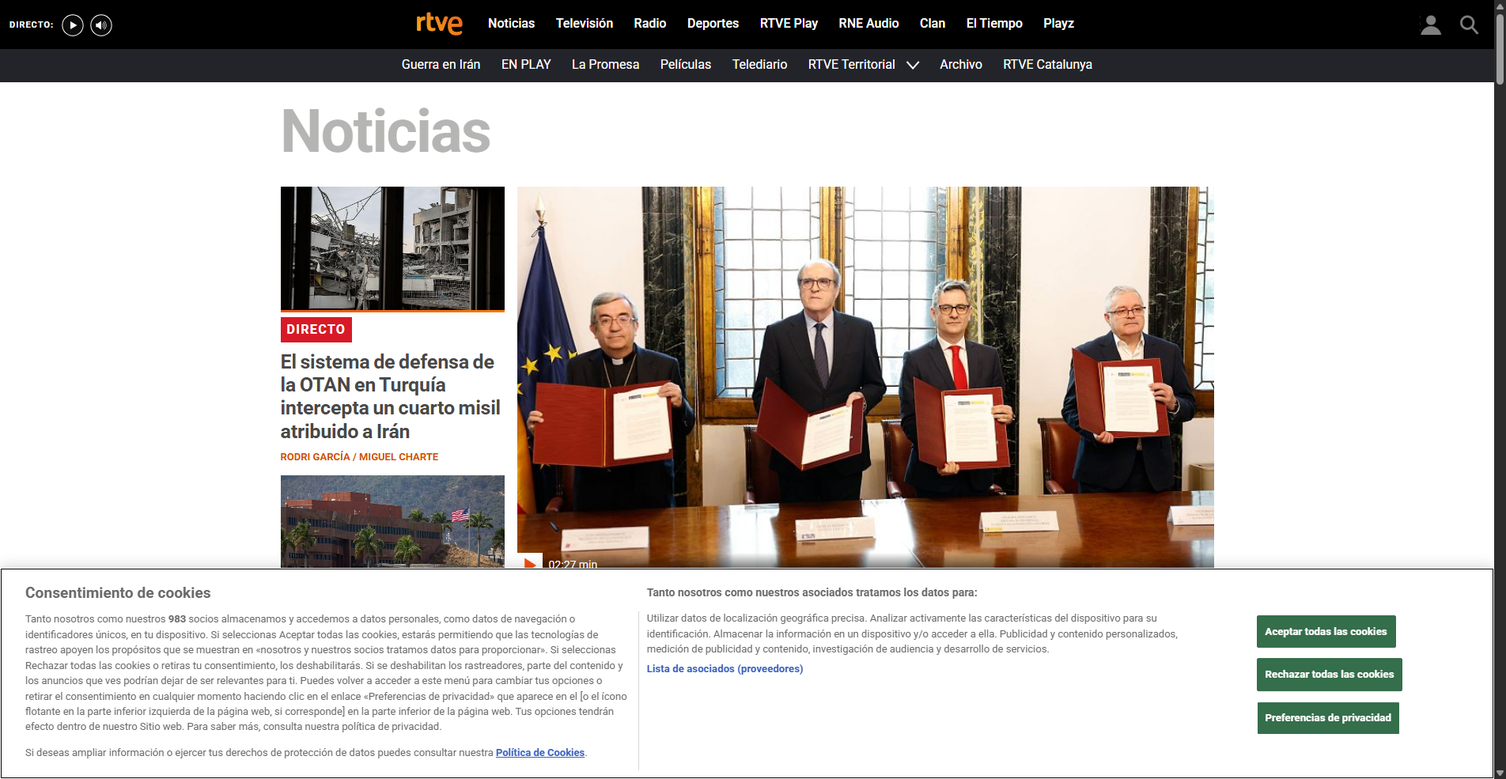button: (0, 568, 1494, 779), (1235, 605, 1434, 742), (1256, 658, 1403, 691), (1257, 615, 1396, 648), (1257, 702, 1400, 734), (647, 661, 803, 676)
link: (517, 186, 1214, 688), (280, 186, 504, 463), (280, 475, 504, 712), (517, 588, 1214, 643), (280, 611, 504, 712), (280, 350, 504, 444), (280, 101, 490, 159), (280, 730, 504, 779), (517, 730, 741, 779), (753, 730, 977, 779), (990, 730, 1214, 779), (685, 87, 828, 109), (1137, 87, 1280, 109), (799, 54, 928, 76), (454, 87, 580, 109), (1282, 87, 1399, 109), (994, 54, 1102, 76), (829, 9, 908, 38), (546, 9, 623, 38), (750, 9, 827, 38), (582, 87, 683, 109), (957, 9, 1032, 38), (392, 54, 490, 76), (678, 9, 748, 38), (830, 87, 920, 109), (562, 54, 649, 76), (982, 87, 1069, 109), (479, 9, 544, 38), (706, 109, 788, 131), (411, 11, 469, 40), (30, 87, 105, 109), (723, 54, 797, 76), (307, 87, 381, 109), (651, 54, 721, 76), (236, 87, 305, 109), (383, 87, 452, 109), (492, 54, 560, 76), (625, 9, 676, 38), (169, 87, 235, 109), (1034, 9, 1084, 38), (1071, 87, 1135, 109), (1401, 87, 1464, 109), (930, 54, 992, 76), (107, 87, 167, 109), (910, 9, 955, 38), (922, 87, 980, 109), (517, 651, 616, 662), (0, 6, 98, 17), (496, 747, 585, 759), (0, 22, 103, 32), (0, 0, 98, 9), (0, 14, 78, 25), (1417, 9, 1445, 38), (1455, 9, 1483, 38), (60, 9, 85, 41), (89, 9, 114, 41), (1461, 746, 1489, 774)
